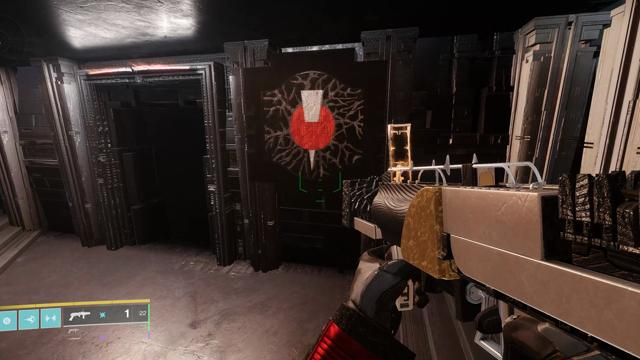kill: (260, 70, 364, 178)
